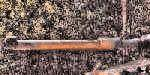tanks: (6, 36, 150, 75)
